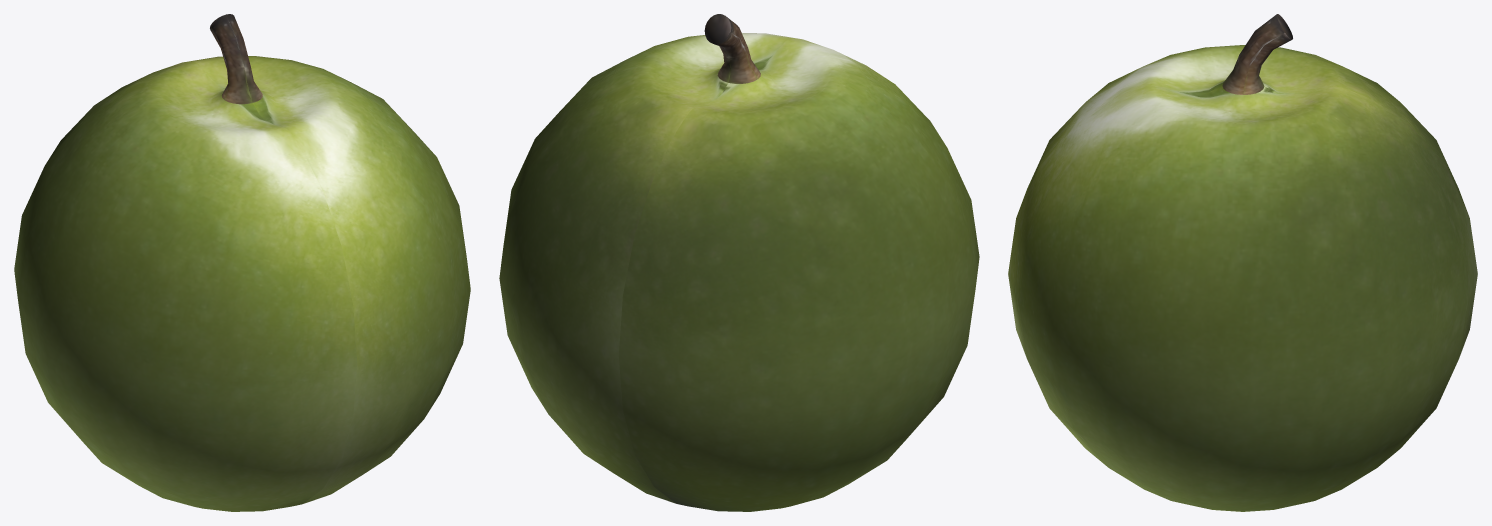
Rendered from apple.fbx.
3 views of the same model, side by side, from view 1: azimuth 30°, elevation 25°; view 2: azimuth 150°, elevation 25°; view 3: azimuth 270°, elevation 25° (orthographic). The views are drawn at different scales.
Parts seen in each view (by area): view 1: Sphere; view 2: Sphere; view 3: Sphere.
Boxes of the visible parts, x1,y1,x2,y2 form: Sphere: [14, 14, 470, 511]; Sphere: [499, 14, 979, 511]; Sphere: [1008, 14, 1477, 511].
Bounding box in the file's own units: 196 × 210 × 196.
